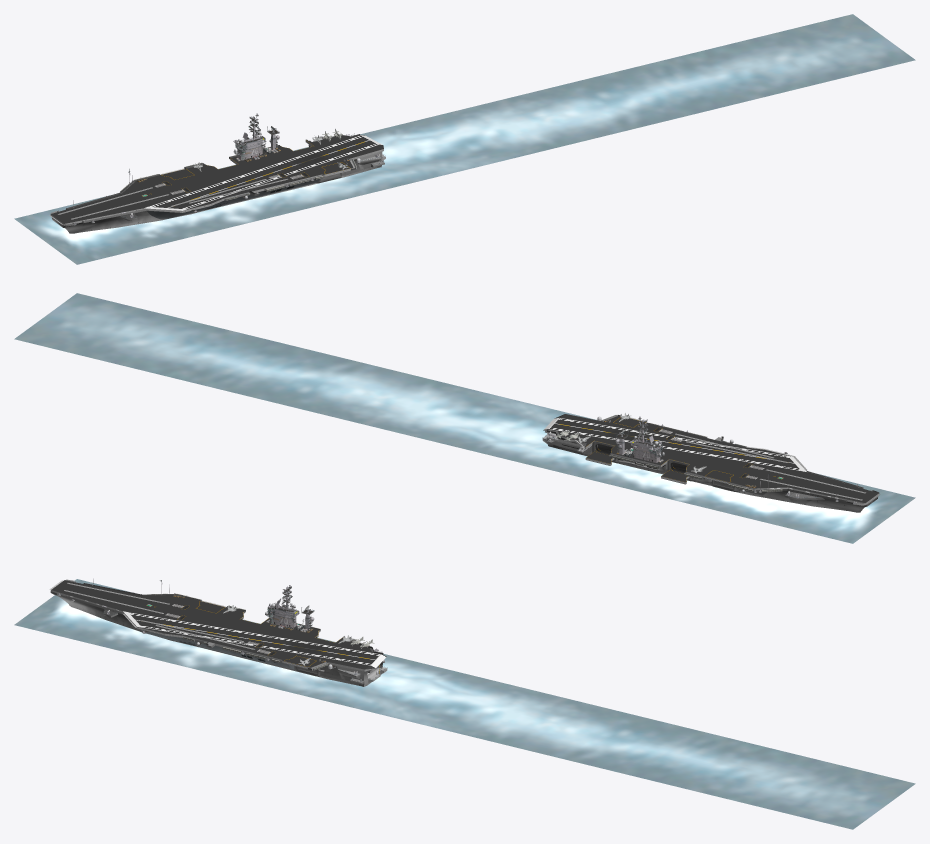
Rendered from vinson.glb.
3 views of the same model, one above another, from view 1: azimuth 30°, elevation 25°; view 2: azimuth 150°, elevation 25°; view 3: azimuth 330°, elevation 25° (orthographic).
Parts seen in each view (by area): view 1: Wake, deck-5-surf, Deck-4, Hull-Port, Sponson-Port, Deck-Underside; view 2: Wake, deck-5-surf, Deck-4, Hull_Stbd, Deck-Underside; view 3: Wake, deck-5-surf, Deck-4, Hull-Port, Deck-Underside, Sponson-Port.
Part boxes in pixels (x1,y1,x2,y2): Wake: [14, 14, 915, 264]; deck-5-surf: [51, 135, 383, 223]; Deck-4: [144, 135, 378, 210]; Hull-Port: [57, 151, 382, 233]; Sponson-Port: [146, 179, 319, 219]; Deck-Underside: [50, 140, 383, 225]; Wake: [14, 293, 915, 543]; deck-5-surf: [548, 414, 878, 503]; Deck-4: [549, 417, 806, 471]; Hull_Stbd: [547, 443, 872, 512]; Deck-Underside: [543, 429, 878, 504]; Wake: [14, 579, 915, 829]; deck-5-surf: [51, 580, 381, 669]; Deck-4: [123, 611, 381, 665]; Hull-Port: [52, 593, 364, 686]; Deck-Underside: [51, 590, 375, 671]; Sponson-Port: [141, 630, 294, 669].
Size of the model in its own units: 867 by 60.76 by 113.
103 materials, 86 textured.
